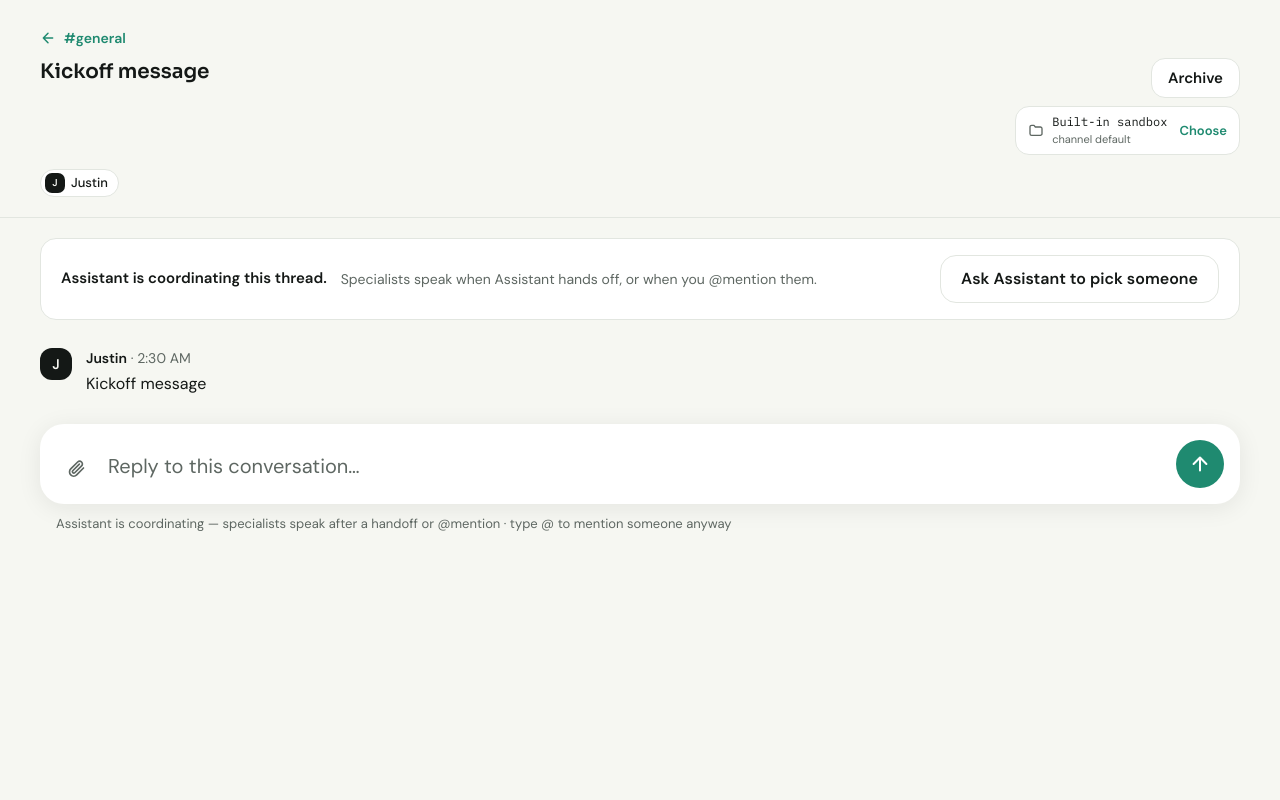
Test: channels/[id]/rivulets/[rivuletId]/+page.svelte › sends a reply via rivulets.postMessage and refetches messages
The width and height of the screenshot is (1280, 800).
Type "Sounds good" into the text box with placeholder "Reply to this conversation…" at [636, 466], box top-left (108, 444), bottom-right (1164, 488)
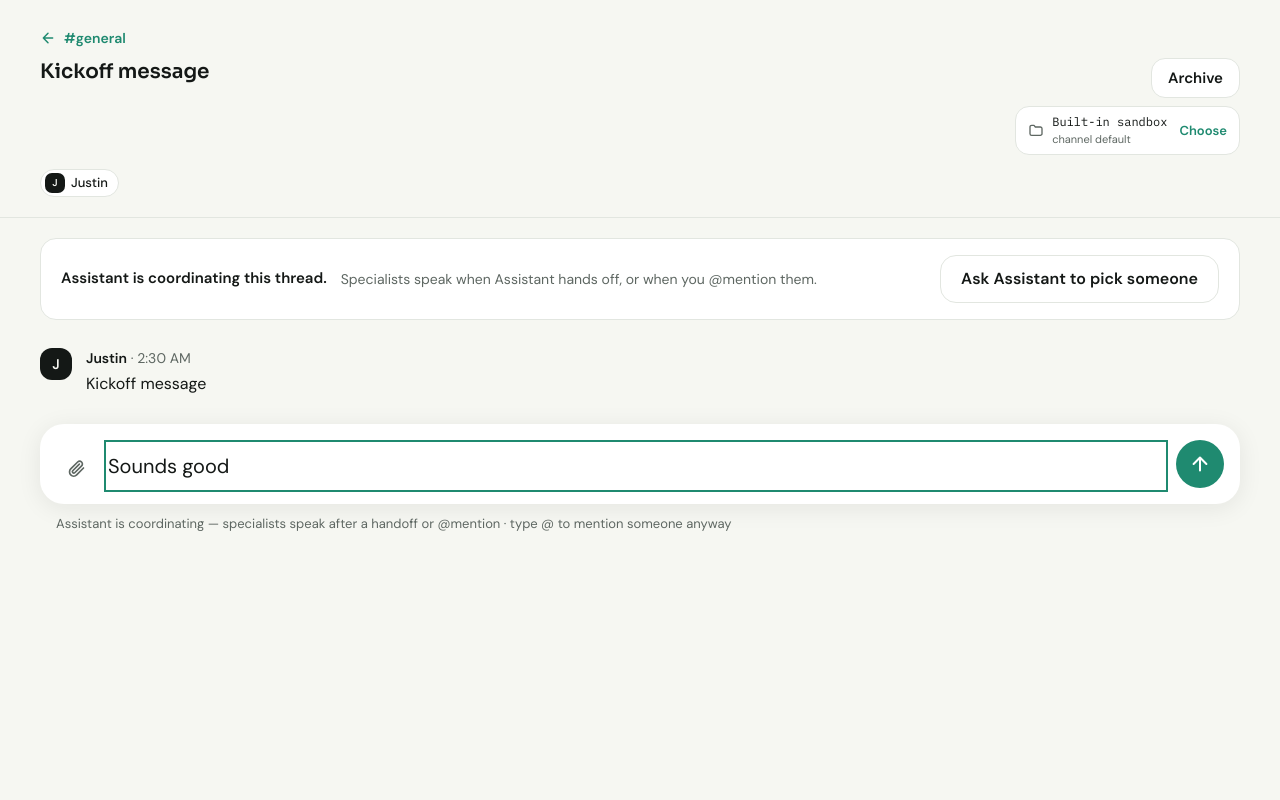
Click the button named "Send" at [1200, 464], box top-left (1176, 440), bottom-right (1224, 488)
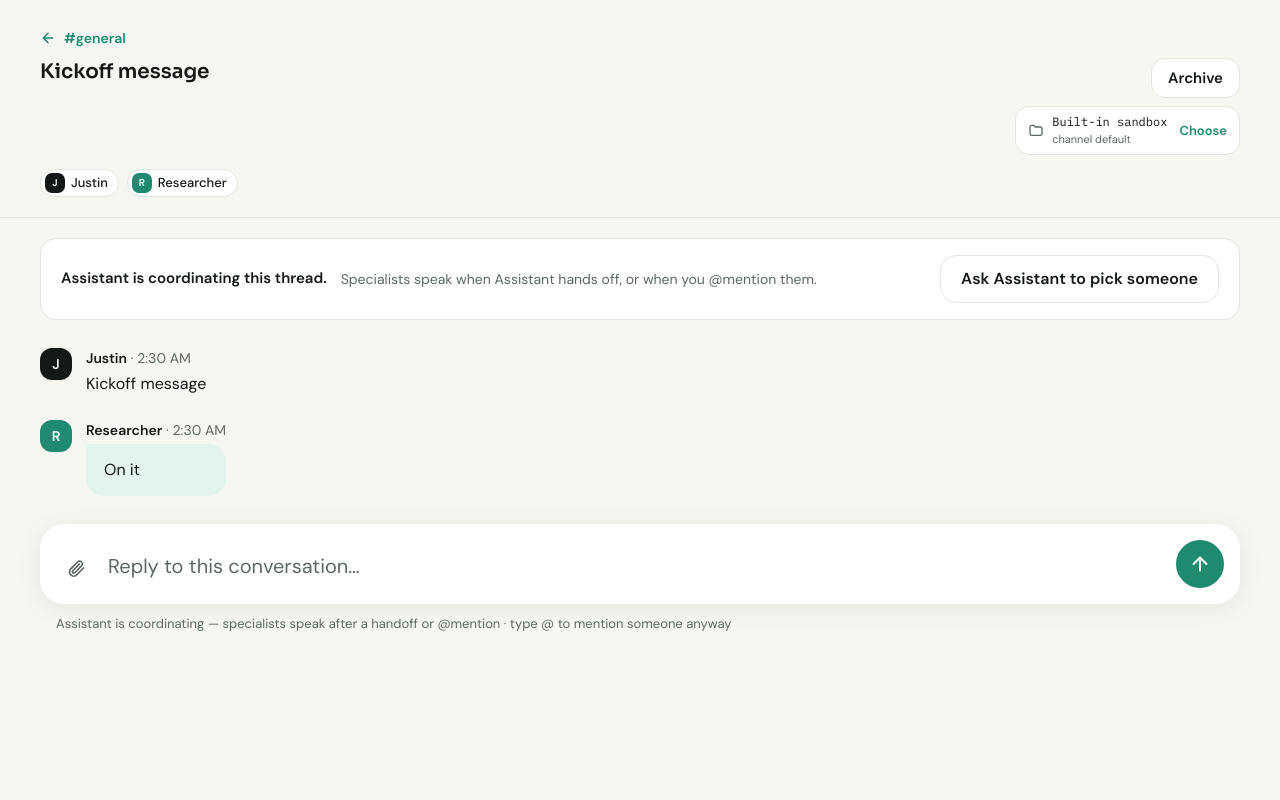
Now the text box with placeholder "Reply to this conversation…" is empty, box top-left (108, 544), bottom-right (1164, 588)
Now the text "On it" is shown, box top-left (104, 458), bottom-right (140, 480)
